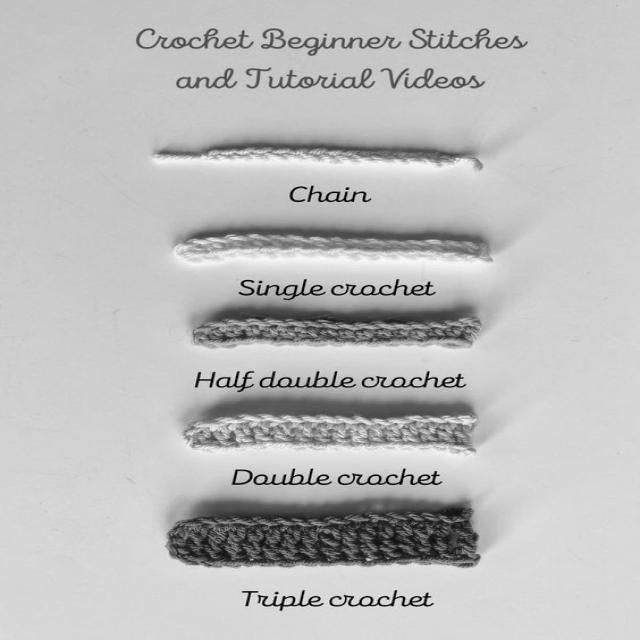ch: (444, 425, 474, 453), (308, 148, 343, 164), (289, 148, 324, 163), (341, 150, 375, 162), (271, 147, 302, 160), (378, 151, 408, 164), (356, 151, 391, 162), (311, 414, 346, 425), (253, 146, 282, 159), (232, 147, 265, 158), (324, 149, 353, 161), (167, 544, 190, 559), (164, 535, 187, 550), (346, 416, 380, 426), (413, 153, 443, 164), (248, 515, 281, 525), (216, 148, 245, 159), (397, 152, 426, 163), (422, 239, 453, 249), (229, 516, 260, 526), (255, 414, 289, 423), (295, 415, 329, 424), (221, 317, 255, 326), (183, 427, 210, 438), (428, 513, 455, 524), (167, 527, 188, 541), (387, 319, 416, 329), (266, 234, 298, 243), (172, 520, 196, 532), (370, 320, 402, 329), (262, 318, 294, 327), (444, 239, 470, 250), (232, 413, 267, 421), (296, 317, 324, 327), (246, 317, 274, 327), (362, 238, 392, 247), (331, 416, 361, 425), (438, 415, 465, 425), (286, 517, 316, 526), (335, 320, 365, 329), (214, 416, 251, 423), (198, 150, 226, 159), (403, 415, 431, 424), (191, 516, 219, 525), (269, 516, 297, 525), (283, 317, 308, 327), (379, 512, 410, 520), (308, 235, 335, 244), (224, 234, 254, 242), (352, 321, 382, 329), (437, 320, 471, 327), (200, 321, 234, 328), (422, 415, 448, 424), (363, 512, 389, 521), (286, 235, 315, 243), (382, 417, 415, 424), (211, 515, 236, 524), (401, 512, 426, 521), (322, 516, 350, 524), (456, 415, 476, 426), (388, 240, 415, 248), (277, 415, 307, 422), (318, 319, 341, 328), (205, 237, 234, 244), (402, 240, 431, 247), (438, 153, 458, 163), (186, 238, 214, 245), (191, 420, 219, 427), (343, 239, 370, 246), (415, 513, 442, 520), (458, 317, 479, 326), (407, 322, 433, 329), (248, 234, 273, 241), (367, 418, 392, 425), (303, 519, 332, 525), (340, 515, 369, 521), (329, 237, 353, 244), (424, 322, 451, 328), (193, 327, 210, 335), (194, 333, 207, 343)
dc: (227, 422, 255, 452), (211, 422, 238, 453), (288, 421, 314, 451), (248, 420, 274, 449), (430, 422, 456, 451), (413, 421, 438, 451), (327, 424, 353, 452), (310, 422, 334, 451), (268, 422, 293, 448), (397, 422, 419, 450), (184, 434, 217, 452), (348, 423, 369, 451), (380, 424, 402, 450), (363, 424, 384, 450)
hdc: (214, 325, 243, 349), (304, 327, 333, 346), (327, 328, 357, 346), (415, 329, 444, 347), (285, 326, 310, 345), (235, 326, 260, 345), (348, 328, 373, 346), (366, 328, 391, 346), (400, 329, 426, 346), (256, 325, 278, 344), (272, 326, 294, 345), (384, 329, 407, 347)
sc: (236, 239, 266, 258), (256, 239, 282, 259), (179, 246, 209, 262), (220, 241, 246, 258), (274, 241, 301, 257), (203, 243, 227, 260), (357, 245, 381, 261), (322, 243, 346, 258), (298, 241, 320, 257), (342, 244, 362, 261), (456, 249, 479, 263), (417, 246, 439, 260), (436, 248, 459, 261), (398, 247, 419, 260), (382, 247, 400, 261)
